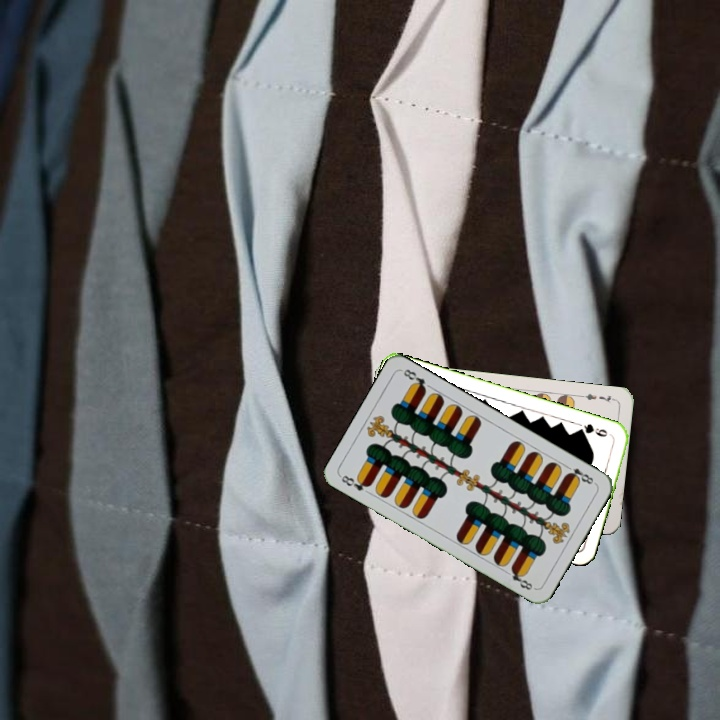E7: (577, 390, 618, 405)
E8: (561, 461, 598, 487), (337, 471, 373, 494)
G9: (574, 420, 610, 439)
